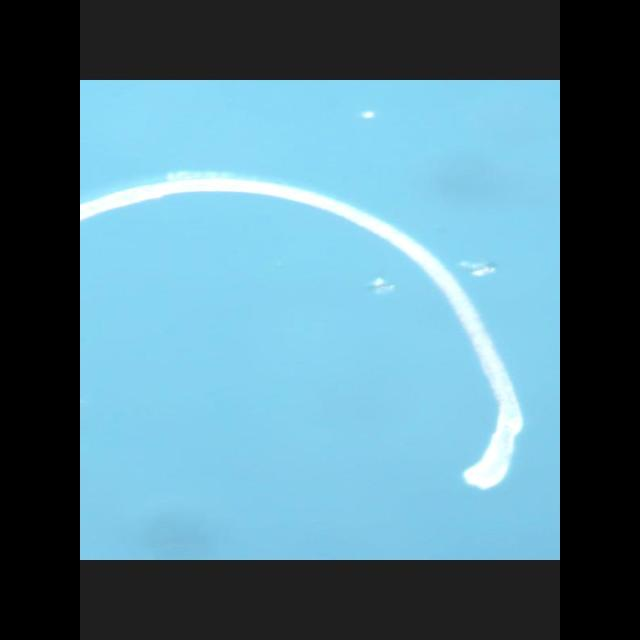Fibre: (80, 172, 524, 490)
